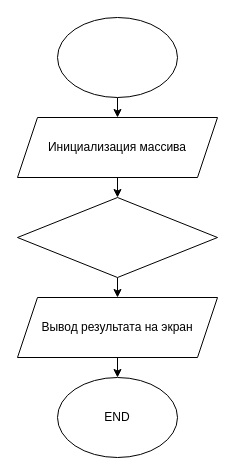
Image size: 235x475. Some labels were removed from this diagram. Here are the shapes that lost their labels. From the top down, the centre of each, then its label:
At (117,57): "START".
At (117,237): "Проверка элементов массива на чётность".
